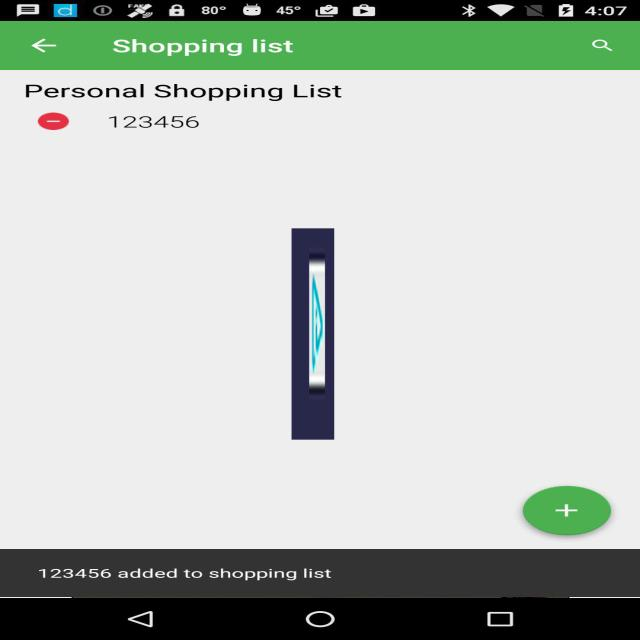sneaking: (292, 228, 334, 440)
